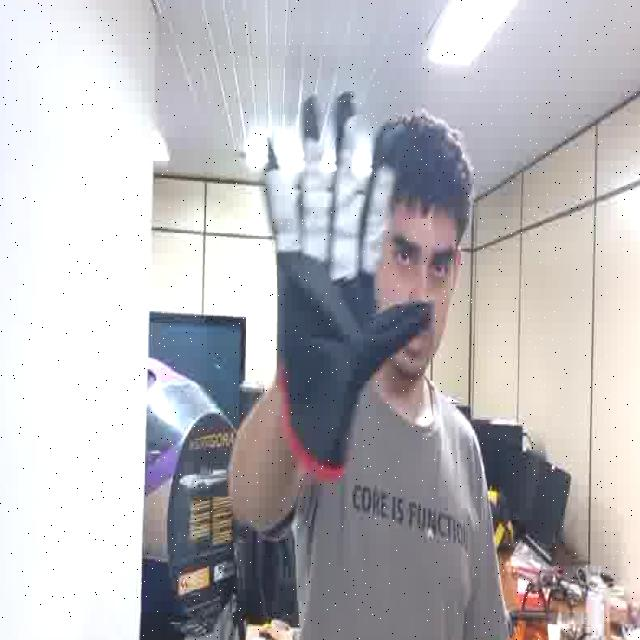Gloves: (256, 87, 439, 486)
